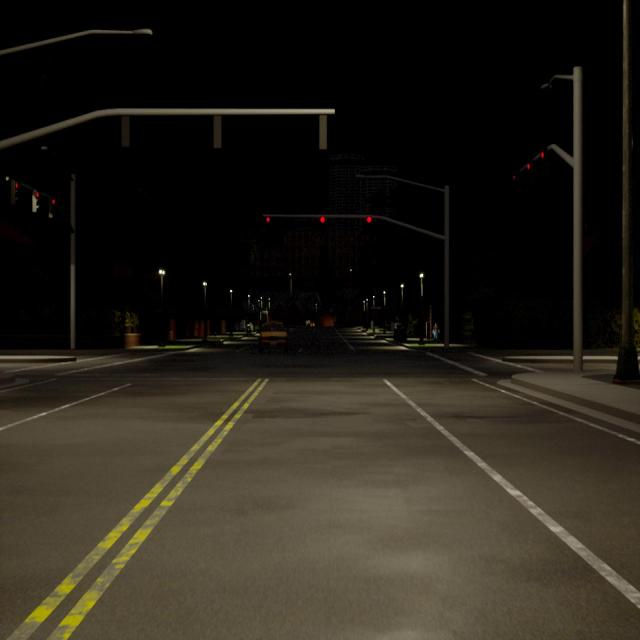Pedestrian: (432, 323, 438, 343)
Vehicle: (260, 322, 288, 350)
traffic_light: (319, 114, 327, 149), (214, 115, 221, 148), (122, 116, 129, 144), (12, 181, 18, 203), (32, 190, 38, 212), (49, 198, 55, 218), (320, 217, 325, 223), (367, 216, 371, 222), (527, 163, 530, 170), (266, 217, 270, 222), (541, 152, 544, 158), (513, 176, 515, 179)
